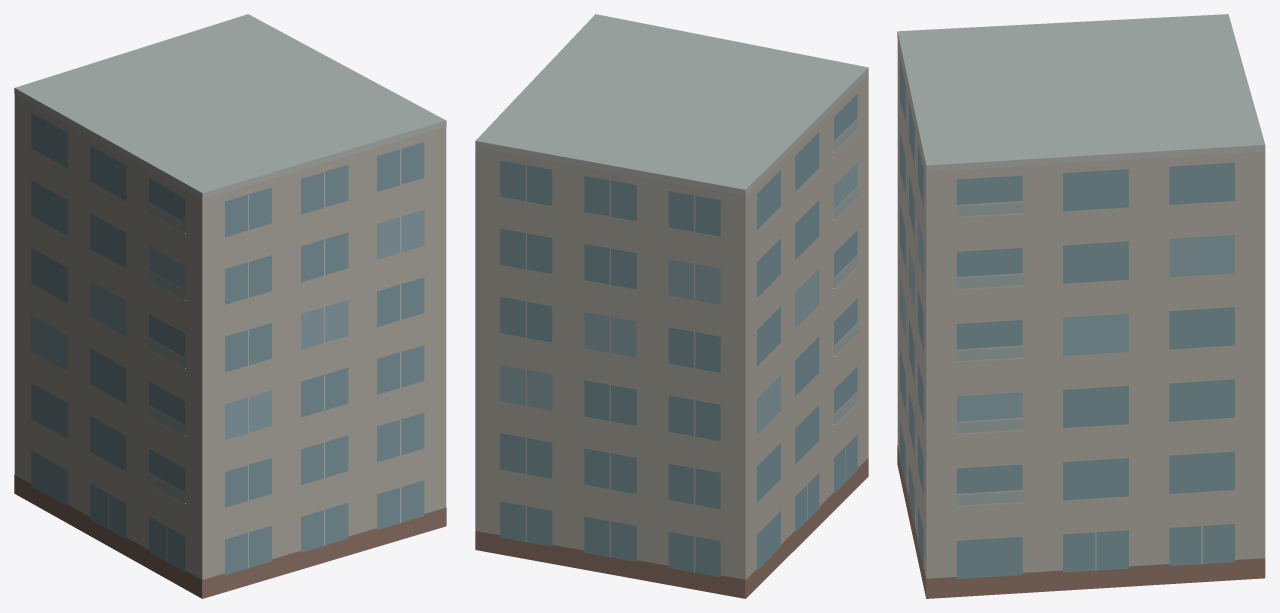
The model's file is survey-upis-32996666.glb.
3 renders of one model, left to right at view 1: azimuth 30°, elevation 25°; view 2: azimuth 150°, elevation 25°; view 3: azimuth 270°, elevation 25°, orthographic. The views are drawn at different scales.
Visible parts, largest first — view 1: survey-upis-32996666.tmp; view 2: survey-upis-32996666.tmp; view 3: survey-upis-32996666.tmp.
Part boxes in pixels (x1,y1,x2,y2): survey-upis-32996666.tmp: [14, 14, 446, 598]; survey-upis-32996666.tmp: [475, 14, 868, 598]; survey-upis-32996666.tmp: [897, 14, 1265, 598].
Size of the model in its own units: 12.26 by 16.35 by 12.59.
